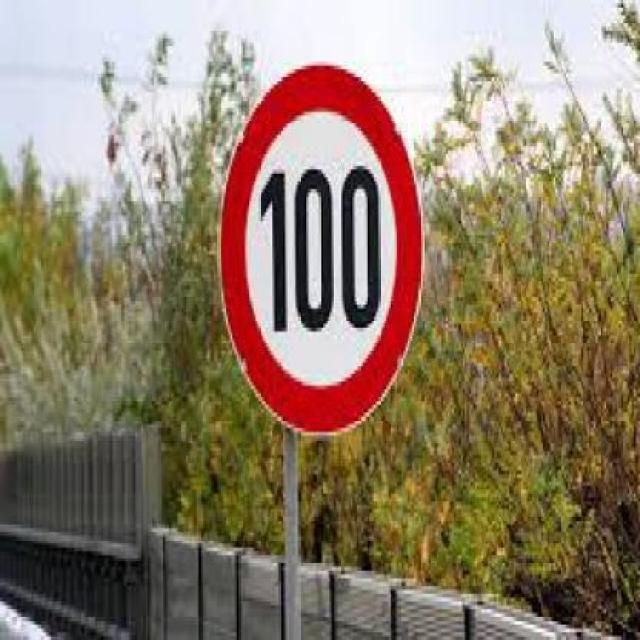forb_speed_over_100: (223, 63, 422, 434)
